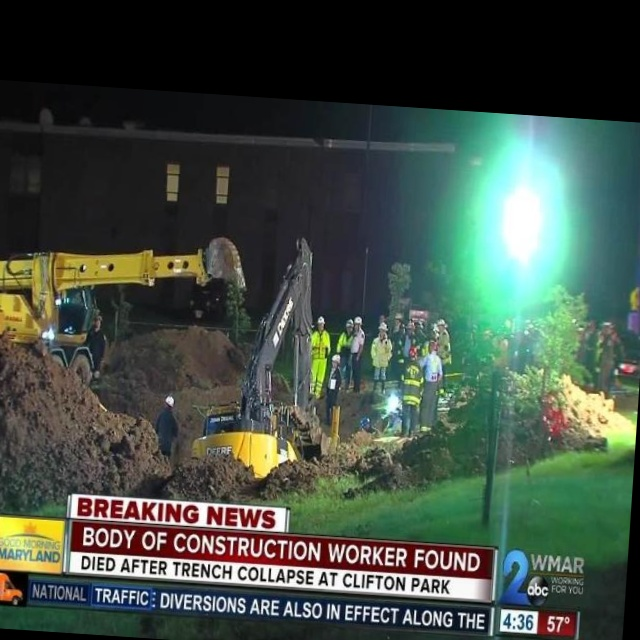Con_Chaleco: (399, 360, 425, 407), (310, 330, 330, 362)
